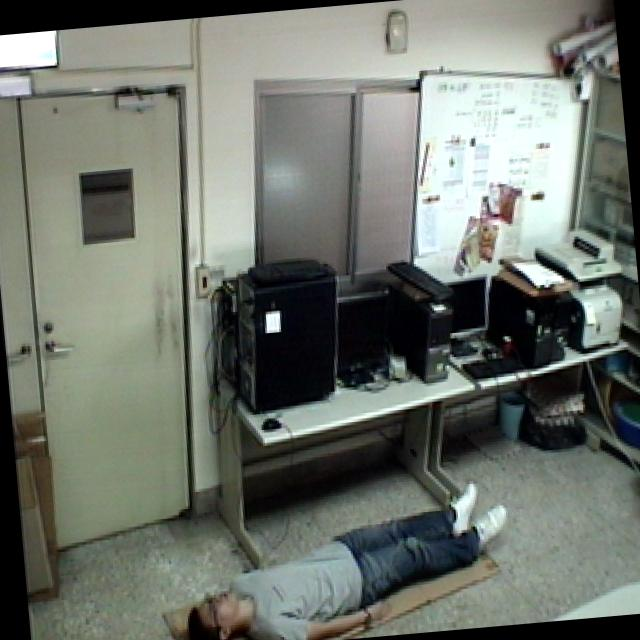lie: (166, 466, 515, 640)
